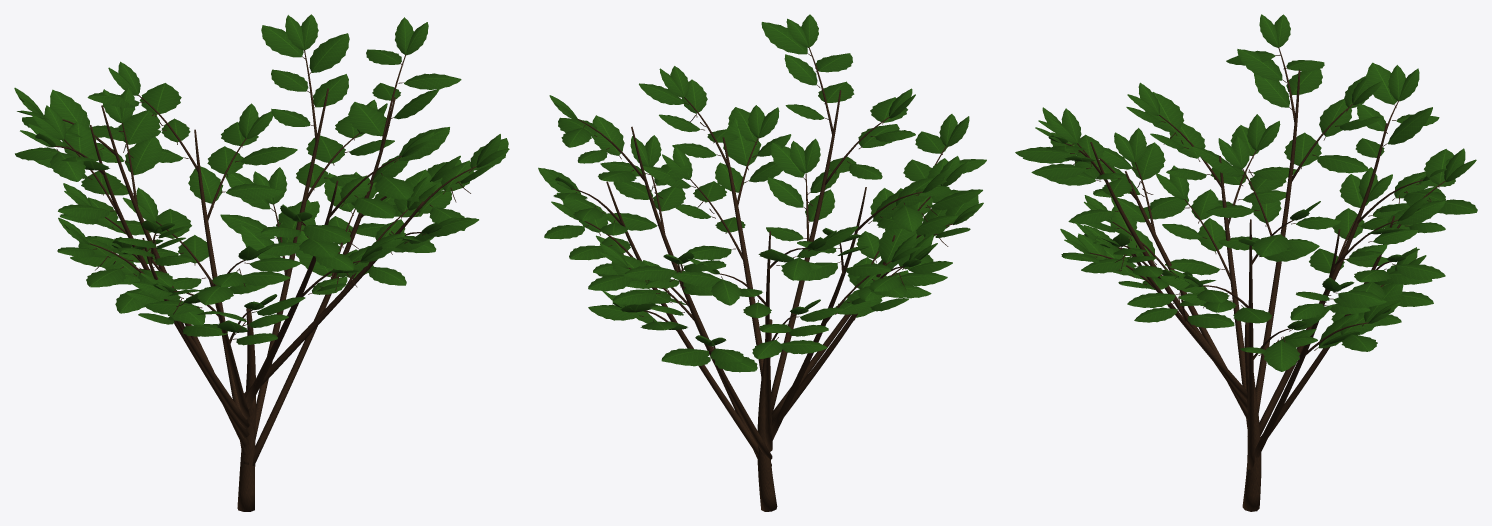
Rendered from healing_red_bush_harvested.glb.
3 renders of one model, left to right at view 1: azimuth 30°, elevation 25°; view 2: azimuth 150°, elevation 25°; view 3: azimuth 270°, elevation 25°, orthographic. The views are drawn at different scales.
Visible parts, largest first — view 1: Healing_Red_Branches_And_Leaves; view 2: Healing_Red_Branches_And_Leaves; view 3: Healing_Red_Branches_And_Leaves.
Part boxes in pixels (x1,y1,x2,y2): Healing_Red_Branches_And_Leaves: (14, 14, 509, 511); Healing_Red_Branches_And_Leaves: (538, 14, 986, 511); Healing_Red_Branches_And_Leaves: (1015, 14, 1477, 511).
Size of the model in its own units: 0.8208 by 0.7938 by 0.8044.
2 materials, 2 textured.
